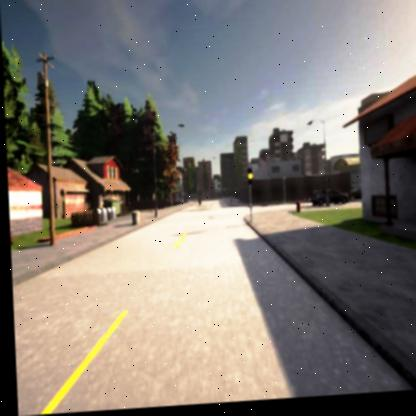vehicle: (308, 193, 347, 211)
